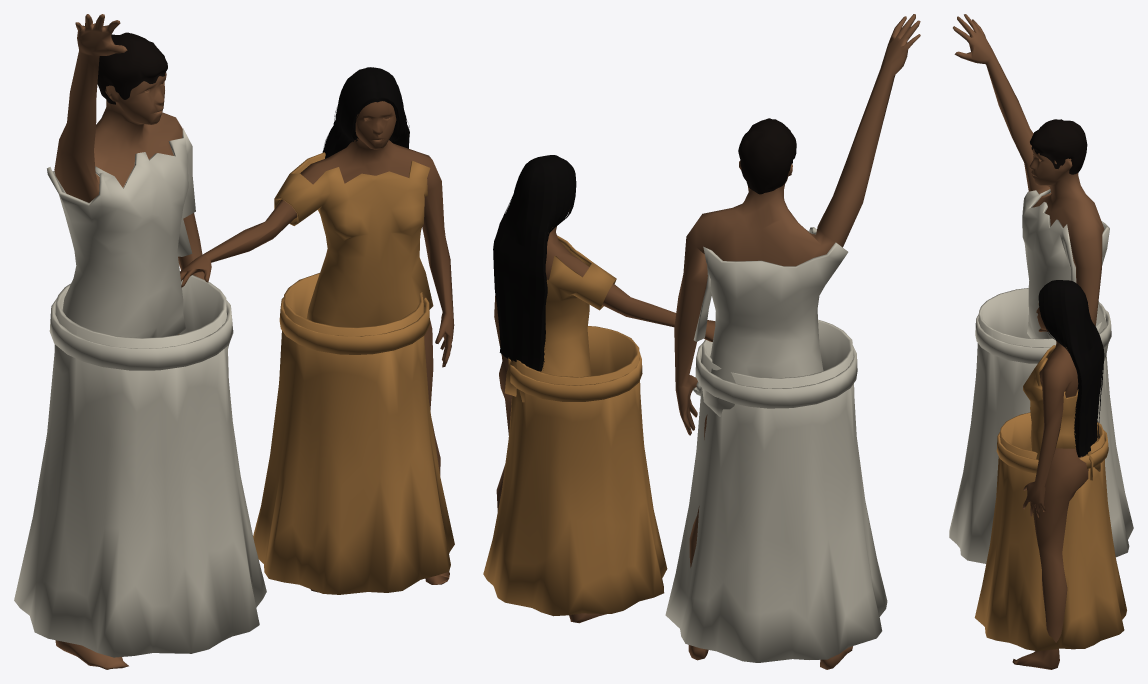
File: prop-myth_pair.ebcb255d.glb
3 views of the same model, side by side, from view 1: azimuth 30°, elevation 25°; view 2: azimuth 150°, elevation 25°; view 3: azimuth 270°, elevation 25° (orthographic). The views are drawn at different scales.
Visible parts, largest first — view 1: myth_pair; view 2: myth_pair; view 3: myth_pair.
Boxes of the visible parts, left/top/right/bottom form: myth_pair: left=14, top=14, right=454, bottom=669; myth_pair: left=483, top=14, right=920, bottom=669; myth_pair: left=949, top=14, right=1133, bottom=669.
Size of the model in its own units: 1.4 by 2.19 by 0.7155.
